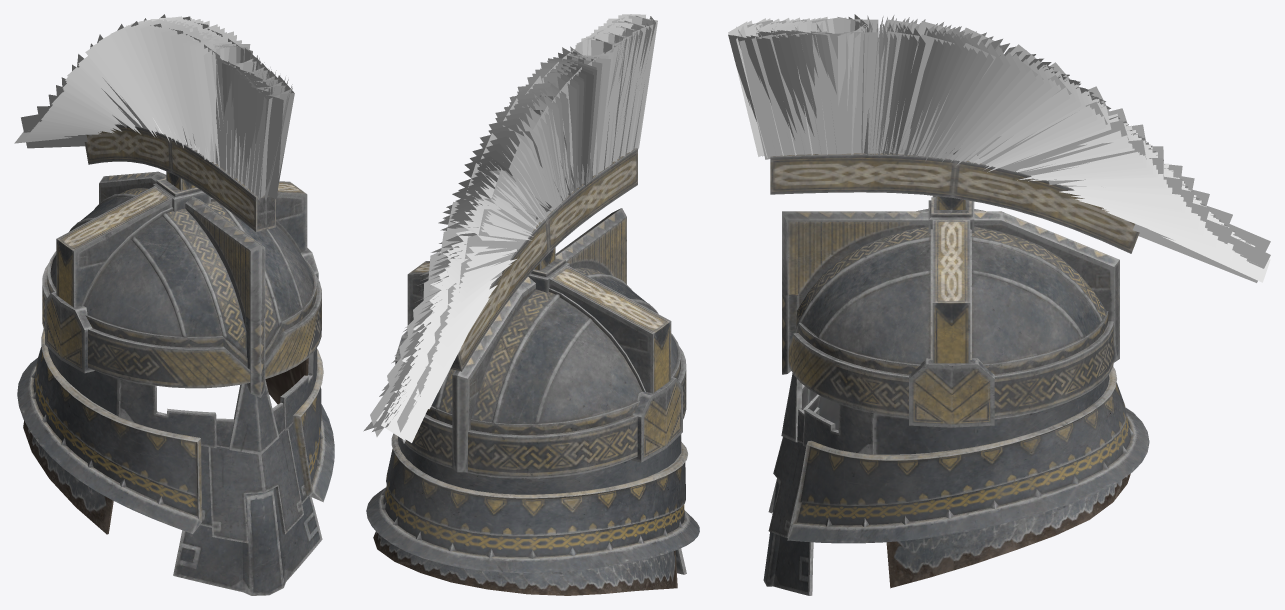
The model's file is sk_dwarf_erebor_helmet_plate_legionary_a2.dae.
3 views of the same model, side by side, from view 1: azimuth 30°, elevation 25°; view 2: azimuth 150°, elevation 25°; view 3: azimuth 270°, elevation 25° (orthographic). The views are drawn at different scales.
Parts seen in each view (by area): view 1: sk_dwarf_erebor_helmet_plate_legionary_a2; view 2: sk_dwarf_erebor_helmet_plate_legionary_a2; view 3: sk_dwarf_erebor_helmet_plate_legionary_a2.
Boxes of the visible parts, x1=… form: sk_dwarf_erebor_helmet_plate_legionary_a2: x1=14, y1=14, x2=334, y2=595; sk_dwarf_erebor_helmet_plate_legionary_a2: x1=363, y1=14, x2=699, y2=595; sk_dwarf_erebor_helmet_plate_legionary_a2: x1=728, y1=14, x2=1270, y2=595.
Size of the model in its own units: 0.2865 by 0.4755 by 0.537.
2 materials, 2 textured.
